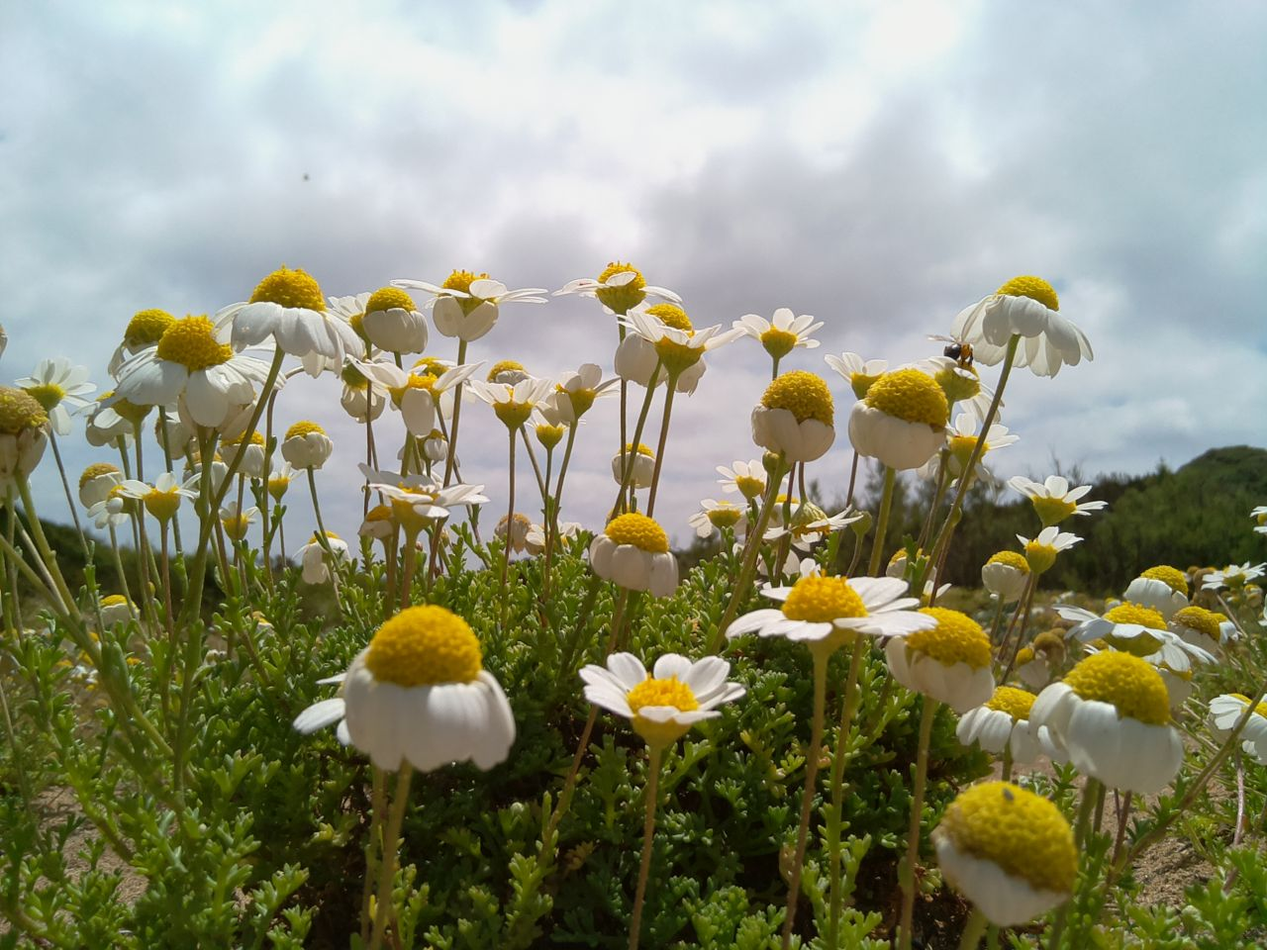bee: (926, 326, 986, 367)
